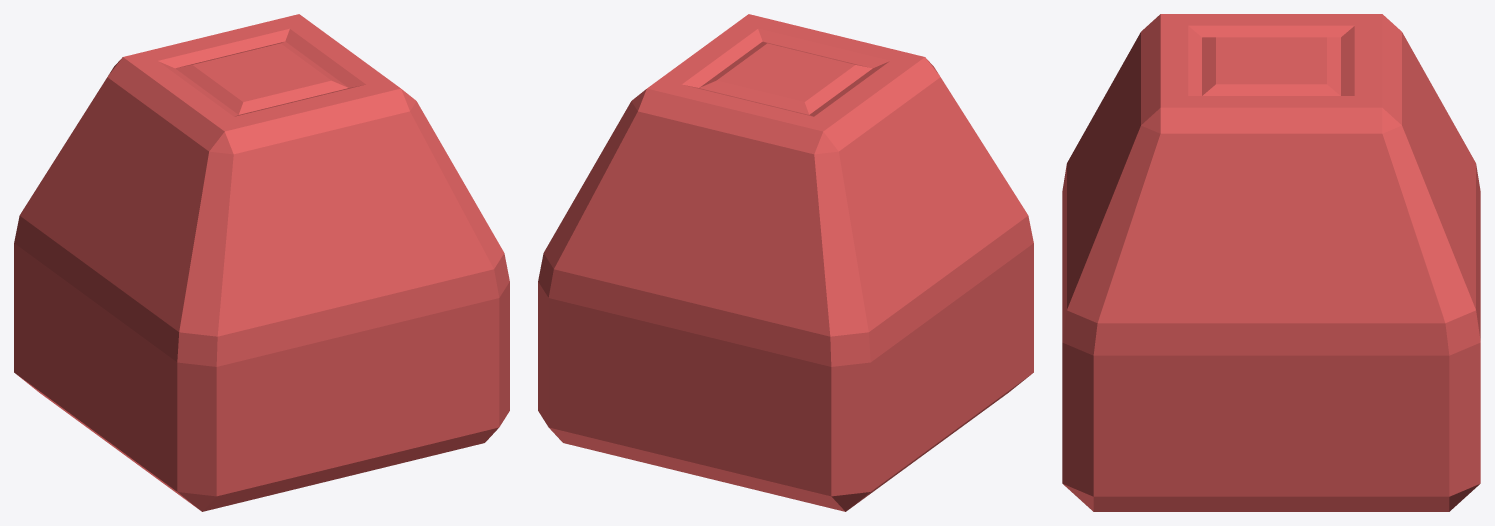
Rendered from End.fbx.
3 renders of one model, left to right at view 1: azimuth 30°, elevation 25°; view 2: azimuth 150°, elevation 25°; view 3: azimuth 270°, elevation 25°, orthographic. The views are drawn at different scales.
Visible parts, largest first — view 1: Cube.001; view 2: Cube.001; view 3: Cube.001.
Boxes of the visible parts, x1,y1,x2,y2 form: Cube.001: [14, 14, 509, 511]; Cube.001: [538, 14, 1033, 511]; Cube.001: [1062, 14, 1480, 511].
Bounding box in the file's own units: 200 × 198 × 200.
